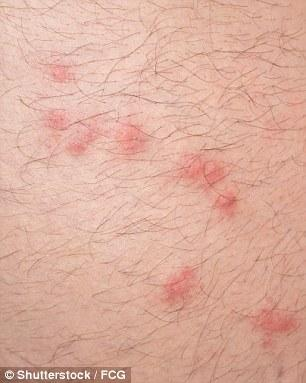Fleas: (156, 262, 204, 310), (250, 303, 298, 345), (178, 151, 228, 191), (112, 119, 151, 159), (63, 122, 99, 159), (42, 65, 82, 90), (210, 189, 239, 220), (40, 108, 67, 133)
